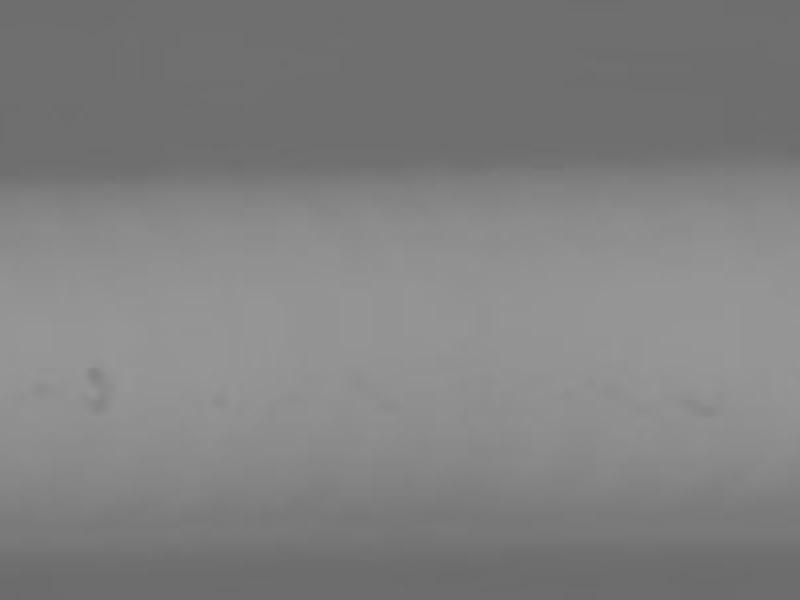defect: (87, 395, 111, 415), (86, 365, 105, 382), (210, 393, 229, 409)
